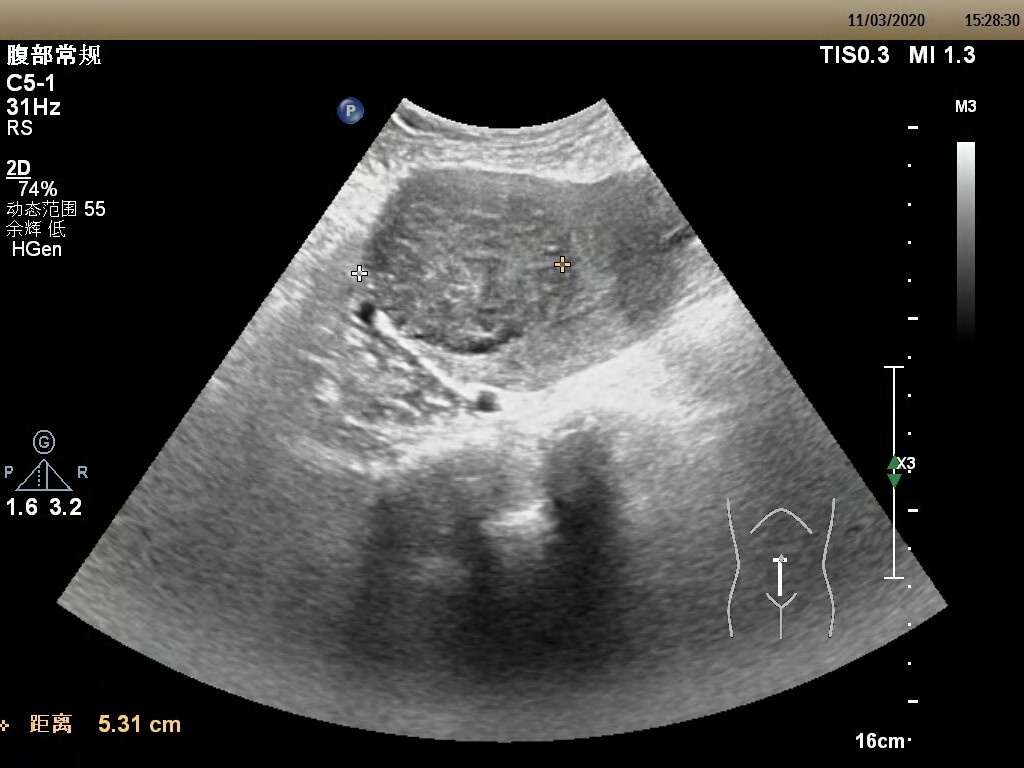肌瘤: (364, 184, 566, 346)
